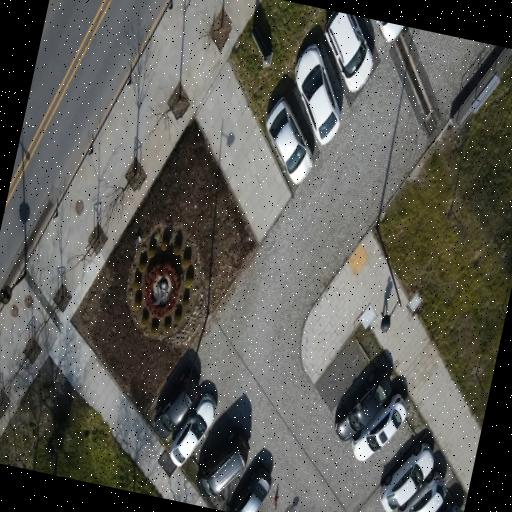harvester: (295, 44, 339, 143), (265, 97, 312, 183), (334, 371, 391, 440), (325, 11, 372, 91), (351, 393, 406, 460), (380, 443, 433, 511), (196, 432, 248, 496), (170, 393, 215, 465), (153, 375, 198, 437), (398, 470, 445, 511), (229, 467, 270, 511), (376, 20, 404, 41), (444, 500, 459, 511)
